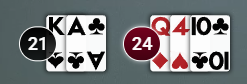10: (189, 14, 212, 38)
4: (170, 14, 191, 39)
a: (66, 14, 87, 39)
k: (44, 15, 67, 39)
q: (149, 15, 172, 40)
